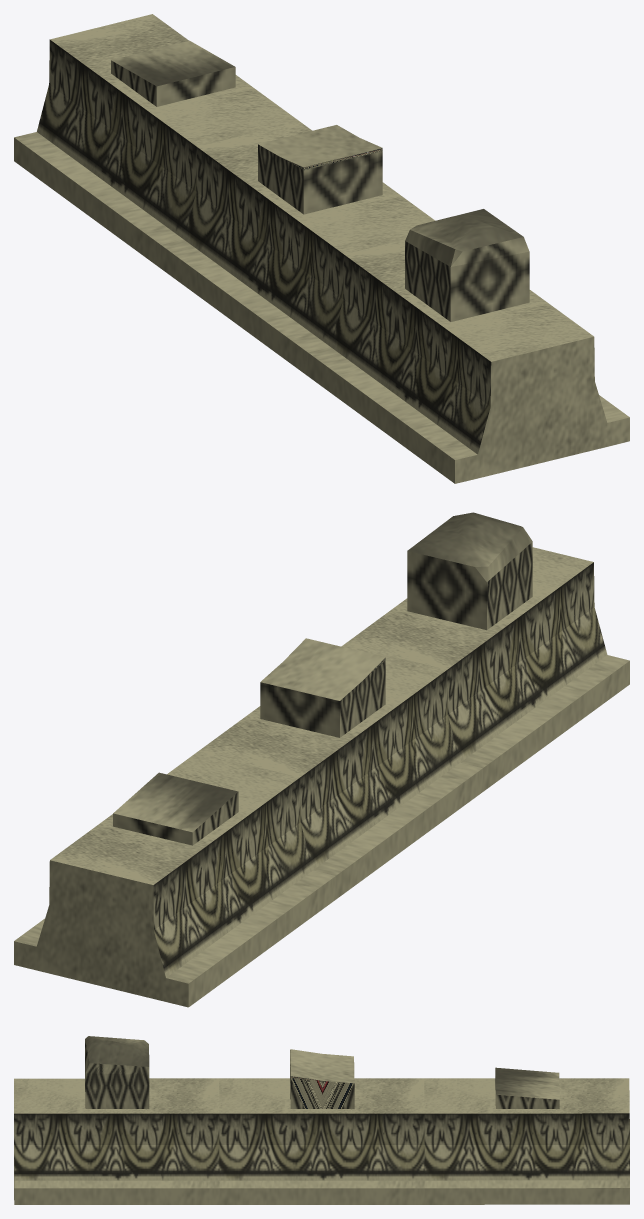
The model's file is StoneFence1.FBX.
3 renders of one model, top to bottom at view 1: azimuth 30°, elevation 25°; view 2: azimuth 150°, elevation 25°; view 3: azimuth 270°, elevation 25°, orthographic. The views are drawn at different scales.
Parts seen in each view (by area): view 1: Railing018; view 2: Railing018; view 3: Railing018.
Boxes of the visible parts, left/top/right/bottom form: Railing018: left=14, top=14, right=629, bottom=483; Railing018: left=14, top=512, right=629, bottom=1007; Railing018: left=14, top=1036, right=629, bottom=1204.
Size of the model in its own units: 8.42 by 8.73 by 36.77.
